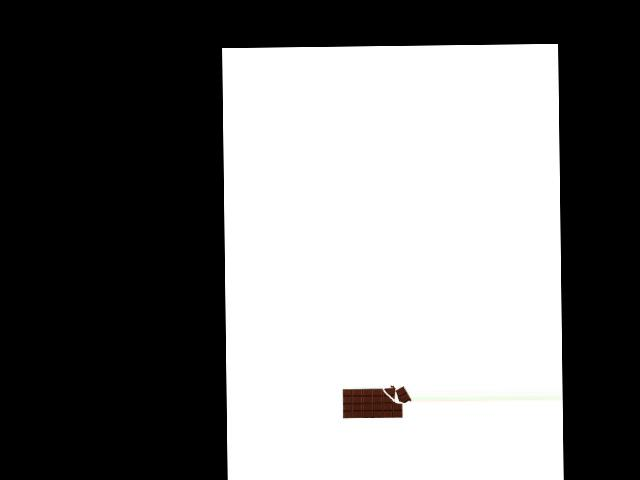chocolate: (341, 379, 411, 423)
